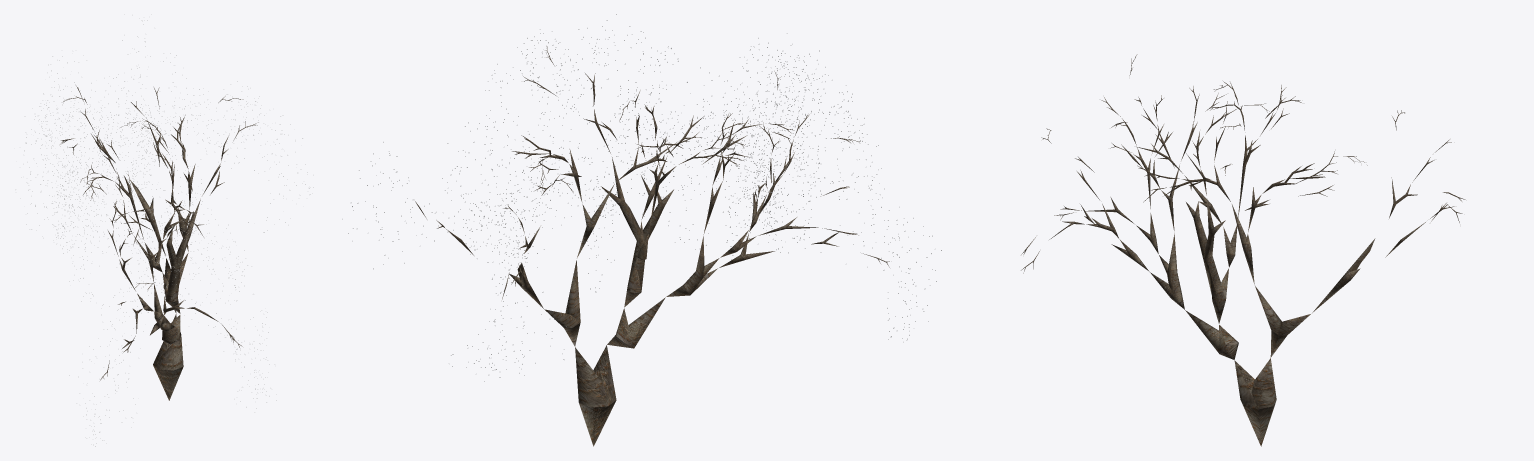
Rendered from sakura-forest-a.glb.
3 views of the same model, side by side, from view 1: azimuth 30°, elevation 25°; view 2: azimuth 150°, elevation 25°; view 3: azimuth 270°, elevation 25° (orthographic). The views are drawn at different scales.
Visible parts, largest first — view 1: 树干, 花位; view 2: 树干, 花位; view 3: 树干.
Boxes of the visible parts, bbox=[...] form: 树干: bbox=[60, 86, 258, 400]; 花位: bbox=[15, 14, 313, 446]; 树干: bbox=[415, 46, 889, 446]; 花位: bbox=[342, 14, 941, 381]; 树干: bbox=[1021, 54, 1465, 446].
Size of the model in its own units: 7.95 by 8.5 by 10.7.
2 materials, 1 textured.
